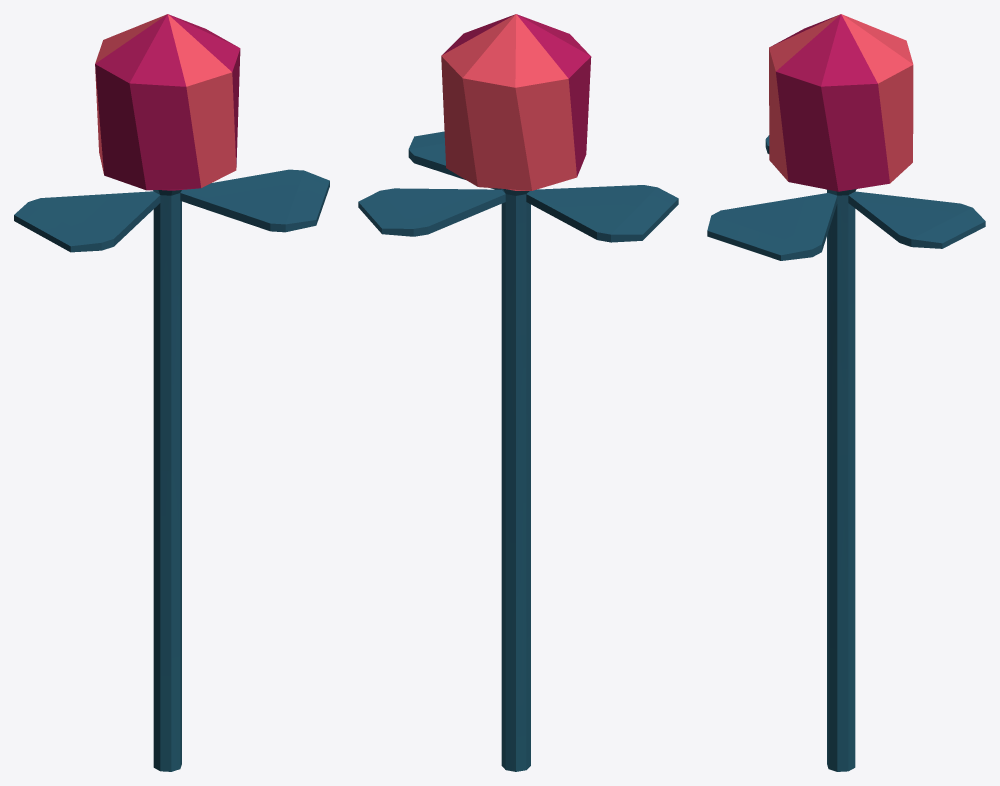
Rendered from Flowerrs_Orange.fbx.
The picture shows the model from 3 angles, left to right: view 1: azimuth 30°, elevation 25°; view 2: azimuth 150°, elevation 25°; view 3: azimuth 270°, elevation 25°; orthographic projection.
Parts seen in each view (by area): view 1: Cylinder.046; view 2: Cylinder.046; view 3: Cylinder.046.
Boxes of the visible parts, <box> form: Cylinder.046: <box>14,14,329,771</box>; Cylinder.046: <box>358,14,678,771</box>; Cylinder.046: <box>707,14,985,771</box>.
Bounding box in the file's own units: 12.21 × 32.21 × 10.81.
